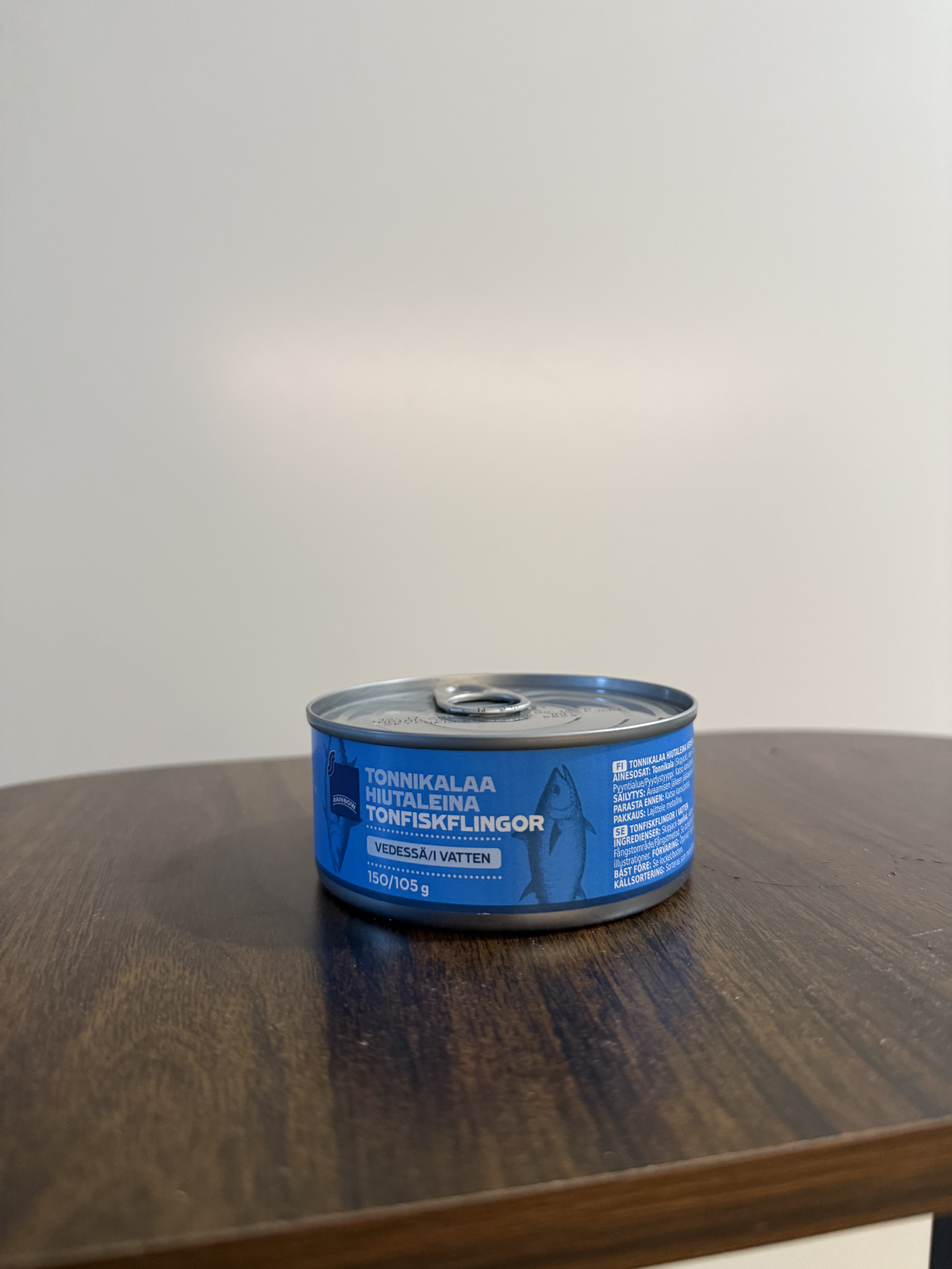Konservburk: (301, 676, 709, 918)
